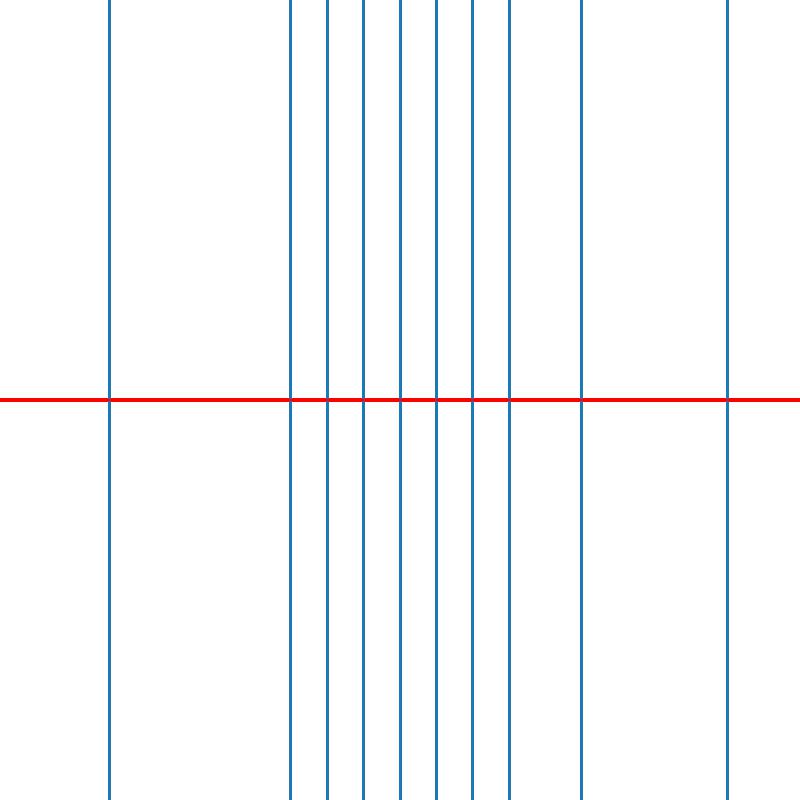root: (432, 396, 440, 404), (323, 396, 330, 404), (396, 396, 403, 404), (723, 396, 730, 404), (105, 396, 112, 404), (505, 396, 512, 404), (287, 396, 294, 404), (469, 396, 476, 404), (578, 396, 585, 404), (360, 396, 367, 404)
